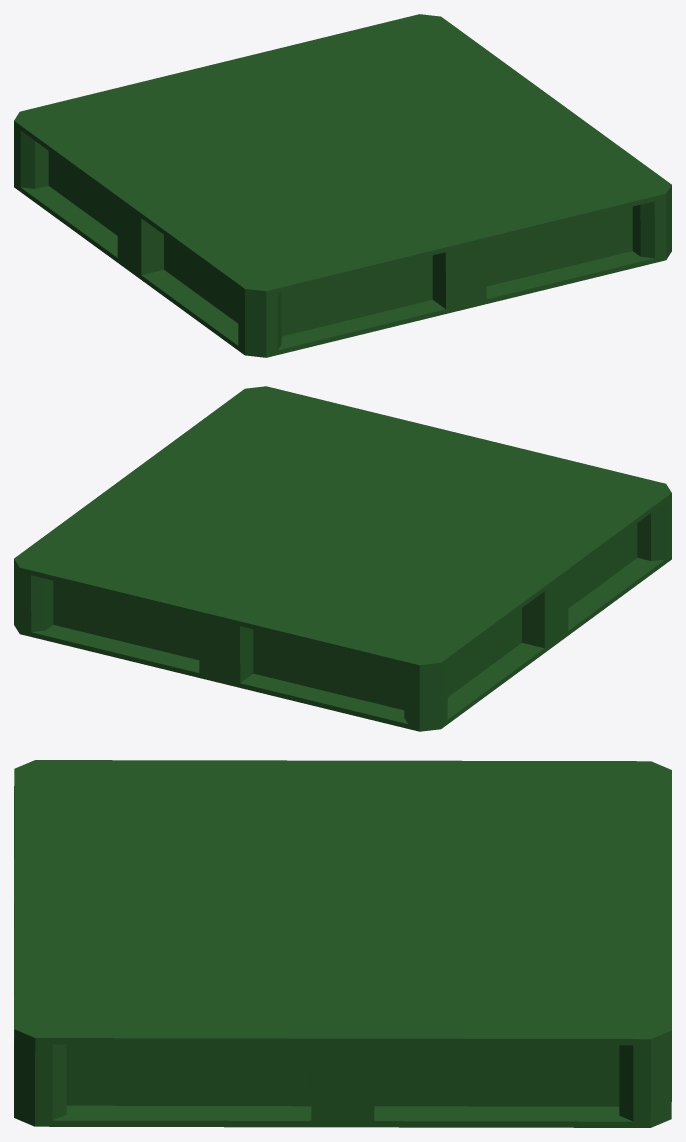
File: use_pallete.dae
The picture shows the model from 3 angles, top to bottom: view 1: azimuth 30°, elevation 25°; view 2: azimuth 150°, elevation 25°; view 3: azimuth 270°, elevation 25°; orthographic projection. The views are drawn at different scales.
Parts seen in each view (by area): view 1: 본체1; view 2: 본체1; view 3: 본체1.
Part boxes in pixels (x1,y1,x2,y2): 본체1: (14, 14, 671, 357); 본체1: (14, 386, 671, 731); 본체1: (14, 760, 671, 1127).
Size of the model in its own units: 94 by 94.03 by 14.2.
